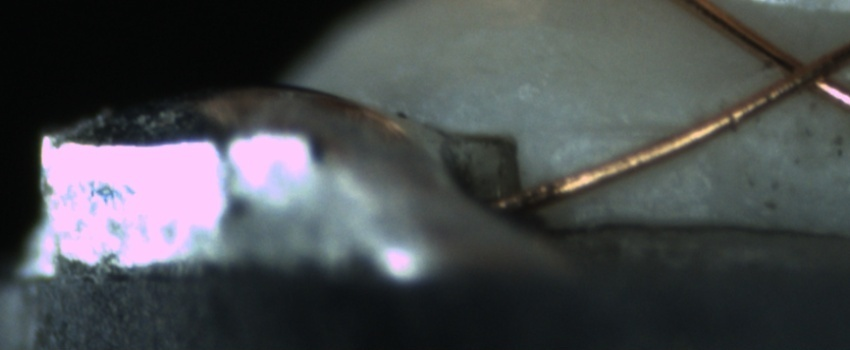CL: (754, 35, 847, 106)
DL: (552, 98, 681, 162)
